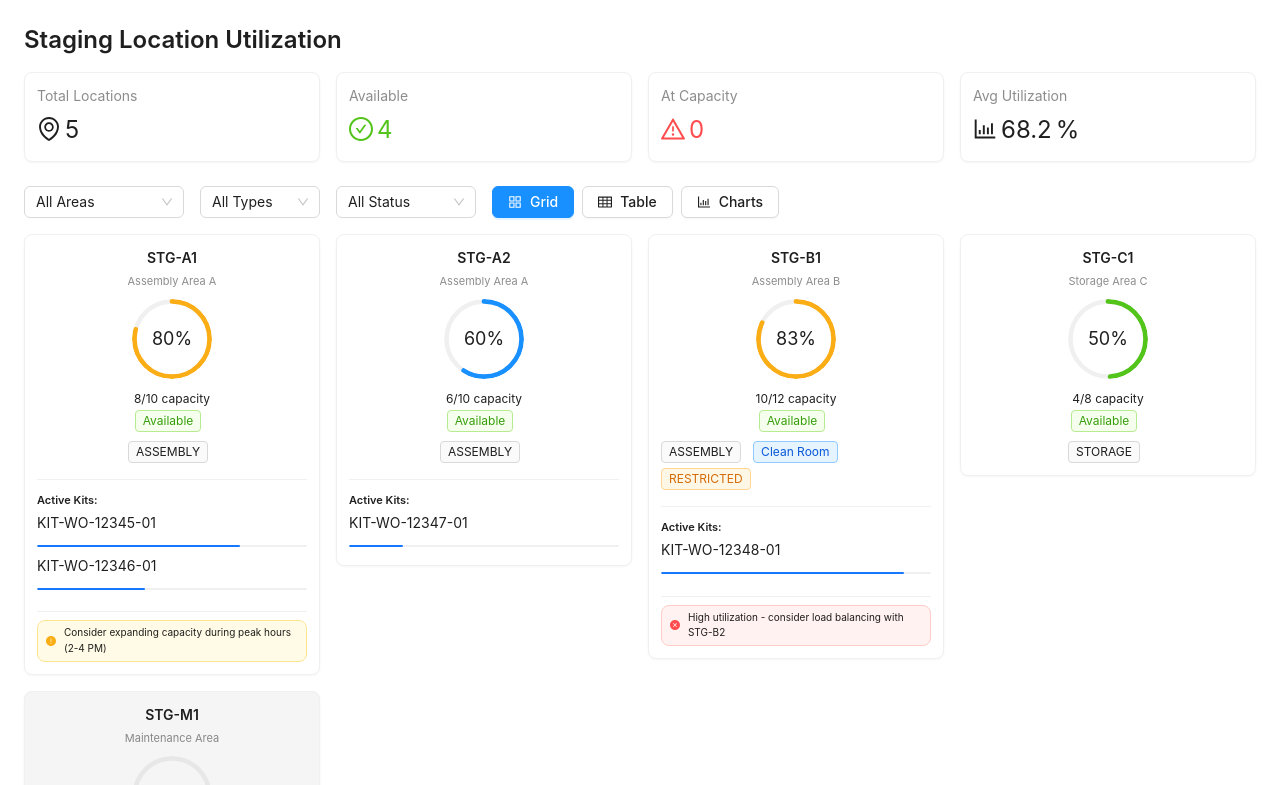
it: StagingLocationUtilization › Chart View › displays chart placeholder
Click the button "Charts".
click(730, 202)  # box [681,186,779,218]
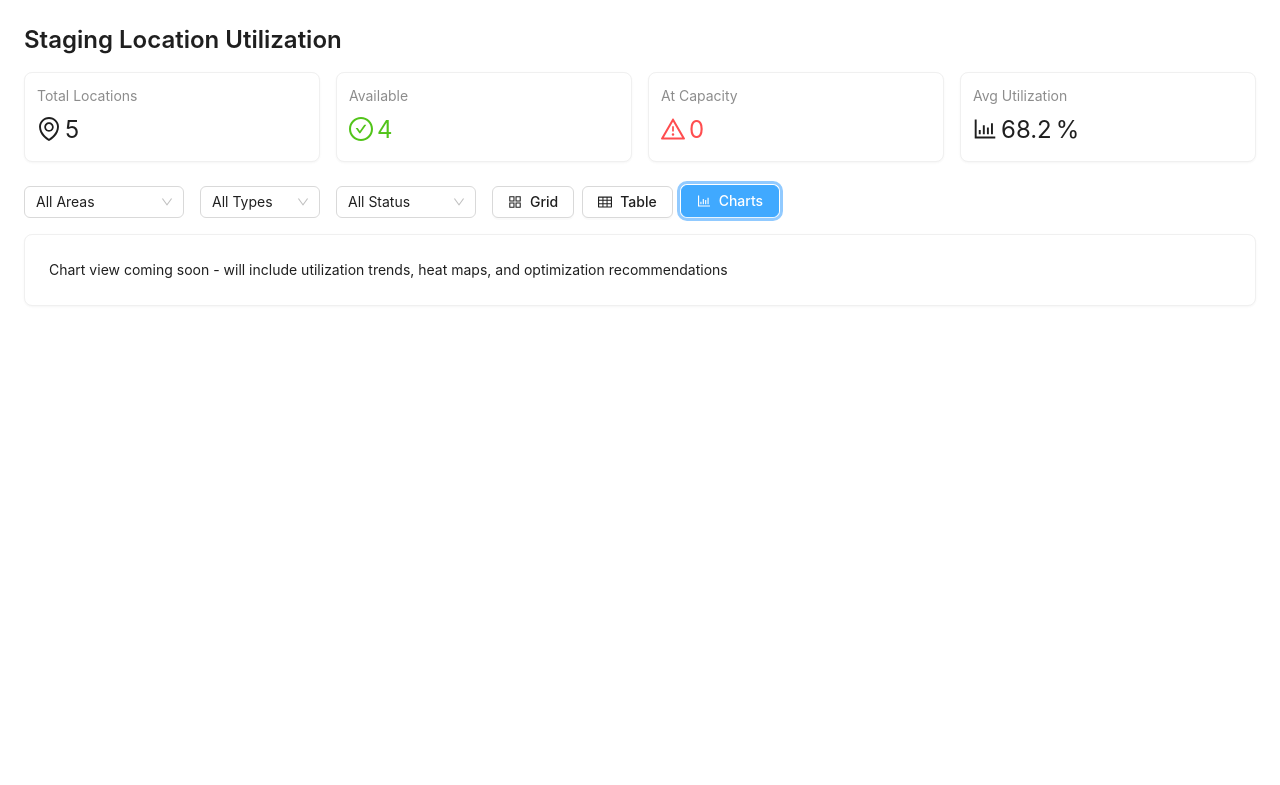
Now the text "Chart view coming soon - will include utilization trends, heat maps, and optimization recommendations" is shown, box [49,261,728,278]
